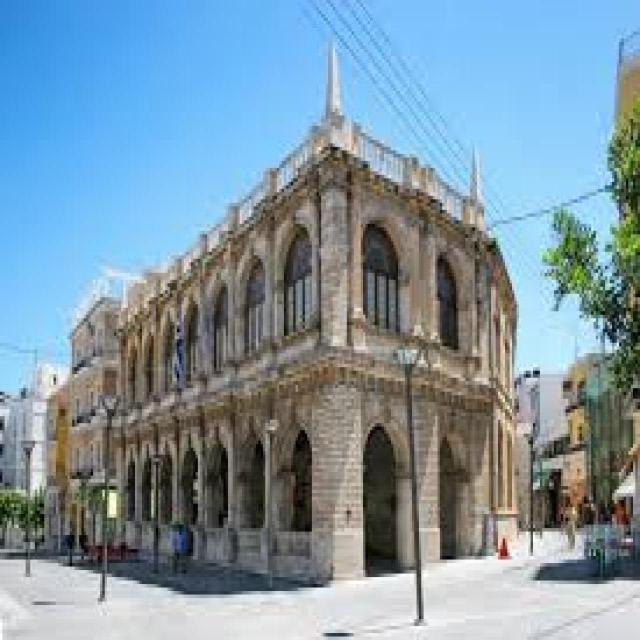Loggia: (121, 37, 525, 580)
